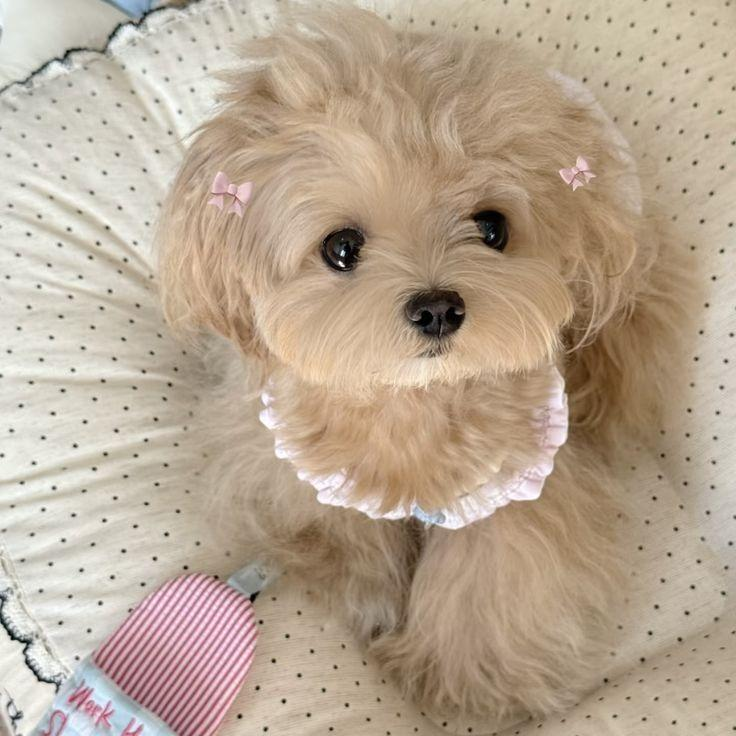puppy-dog: (153, 5, 693, 733)
